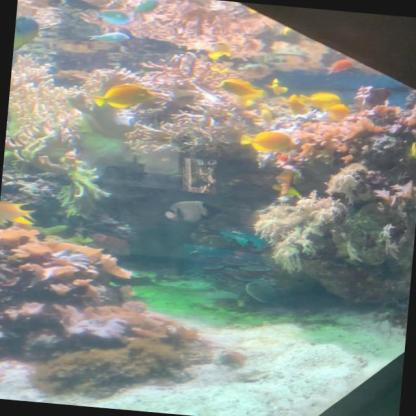fish: (89, 80, 156, 114), (239, 127, 298, 157), (162, 198, 223, 226), (211, 76, 265, 105), (0, 197, 40, 230), (13, 15, 42, 60), (265, 165, 299, 199), (299, 90, 342, 113), (281, 92, 312, 118), (320, 100, 351, 124), (88, 29, 130, 46), (94, 9, 134, 26), (259, 76, 289, 98), (209, 40, 235, 62), (130, 0, 160, 18), (325, 57, 351, 76)
